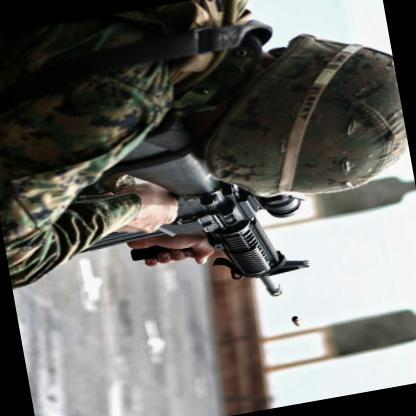rifle: (54, 112, 320, 332)
